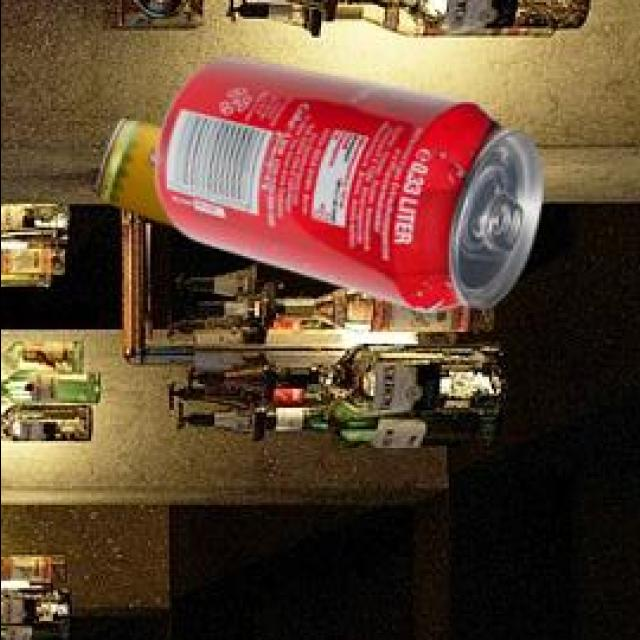logam: (158, 53, 544, 309), (98, 115, 175, 222)
